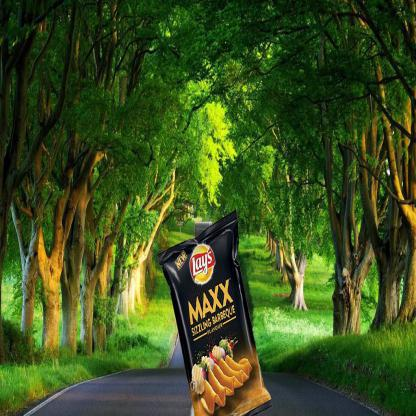maxx_sizzling_barbeque: (155, 210, 270, 408)
